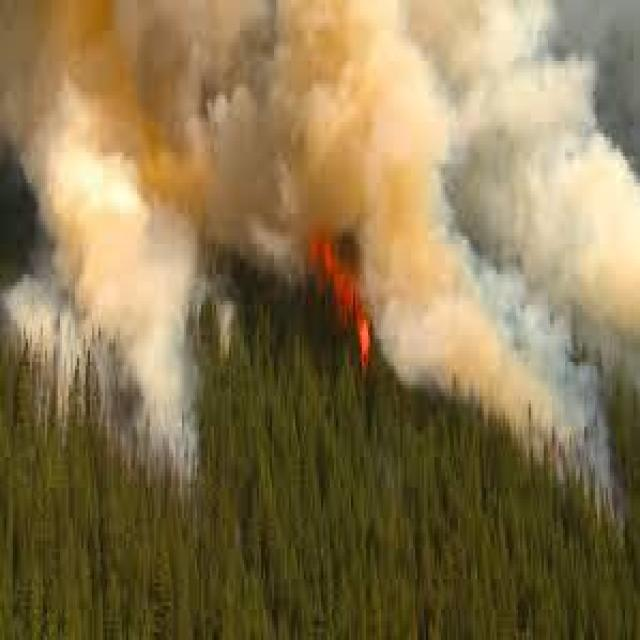fire: (310, 250, 368, 346)
smoke: (32, 0, 574, 149), (57, 123, 196, 425), (383, 232, 620, 395), (325, 134, 634, 239)
